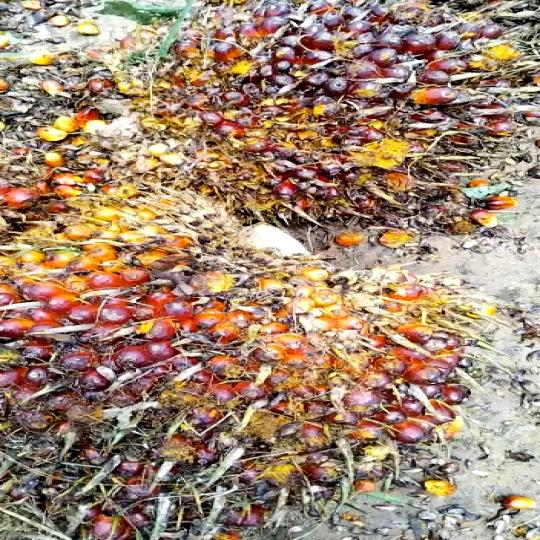masak: (0, 183, 513, 540), (80, 0, 538, 236)
